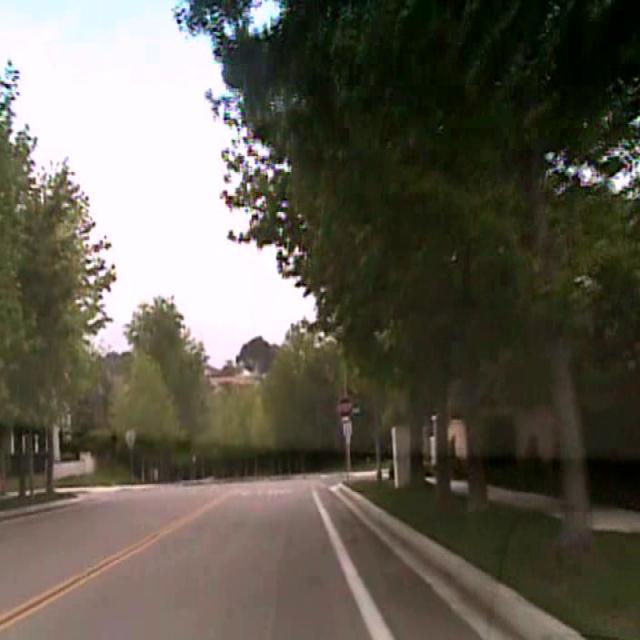stop: (336, 393, 354, 419)
